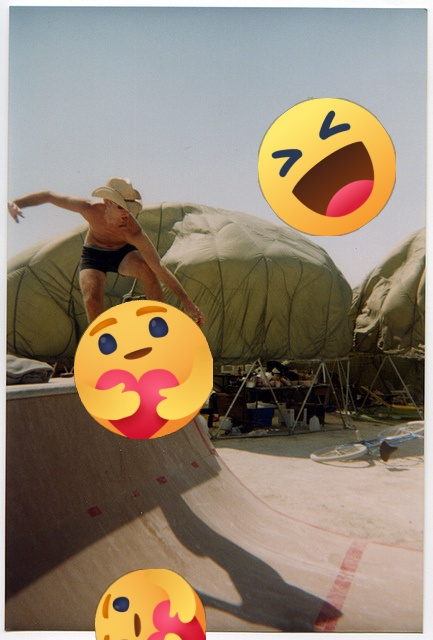care: (74, 300, 213, 439), (95, 569, 206, 640)
haha: (258, 98, 396, 236)
